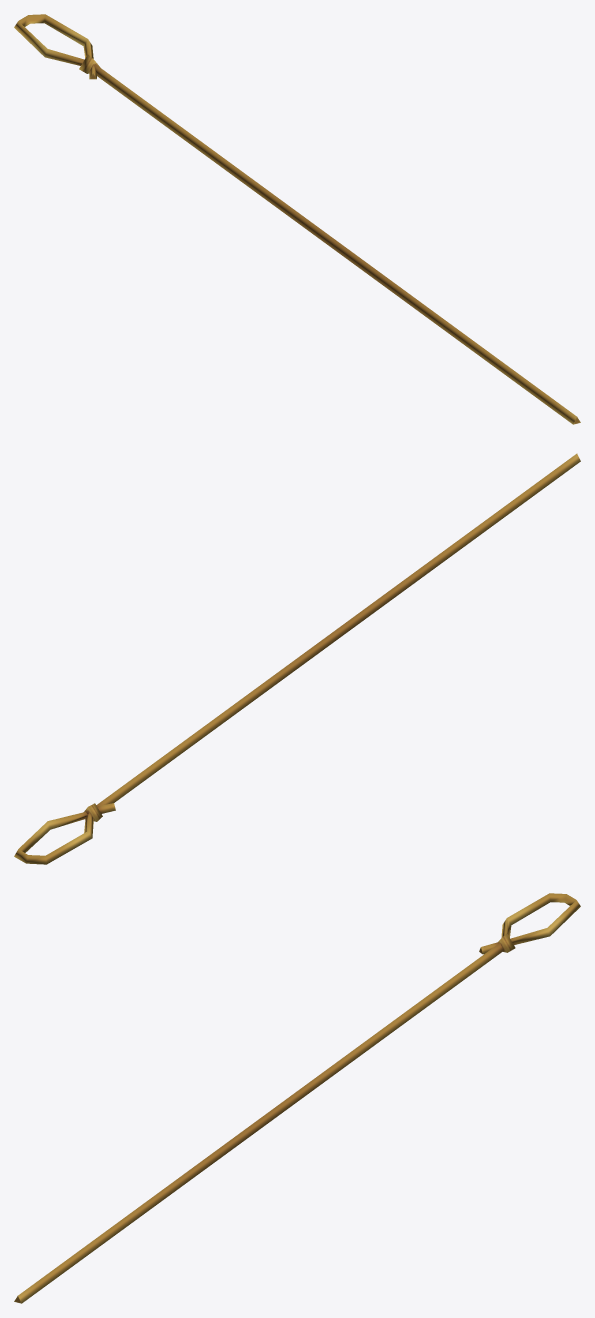
Rendered from jsf_Elasticcord_01.fbx.
The picture shows the model from 3 angles, top to bottom: view 1: azimuth 30°, elevation 25°; view 2: azimuth 150°, elevation 25°; view 3: azimuth 330°, elevation 25°; orthographic projection.
Parts seen in each view (by area): view 1: jsf_Elasticcord_01; view 2: jsf_Elasticcord_01; view 3: jsf_Elasticcord_01.
Part boxes in pixels (<box>): jsf_Elasticcord_01: <box>14,14,580,424</box>; jsf_Elasticcord_01: <box>14,453,580,864</box>; jsf_Elasticcord_01: <box>14,893,580,1303</box>.
Size of the model in its own units: 1.17 by 0.3008 by 23.31.
